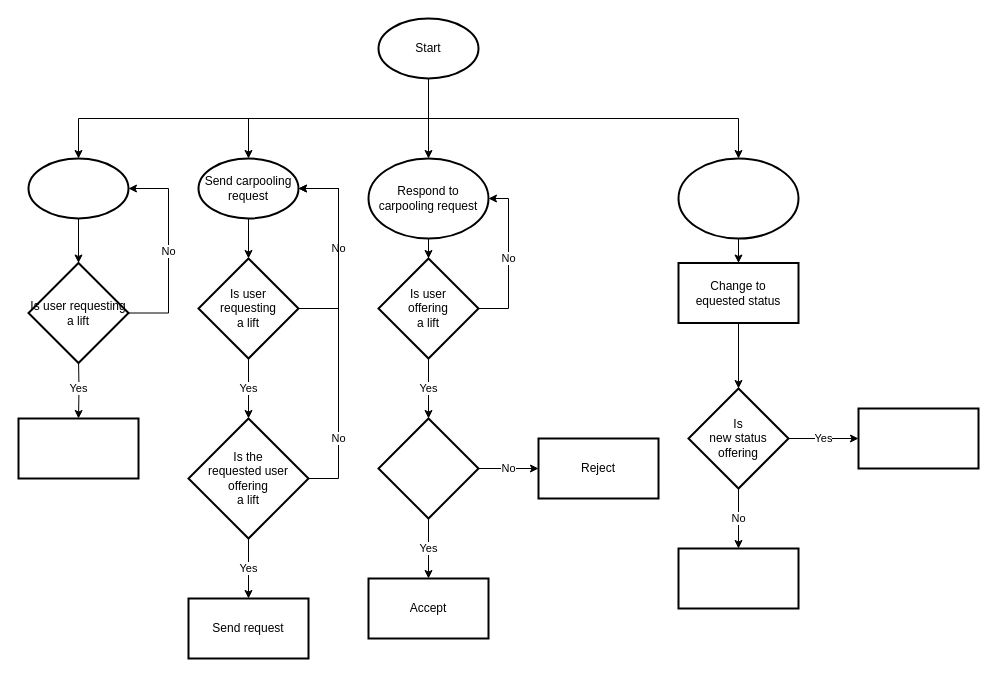
The diagram is 996 pixels wide and 676 high, and some of its shapes have lost their labels. The centre of each missing label's shape, as x and y in pixels:
Change Offering/Requesting Status: point 738,198
Did user accept: point 428,468
See available carpooling options: point 78,188
Show all users that offer lifts: point 78,448
Show list of offering users: point 738,578
Show list of requesting users: point 918,438
